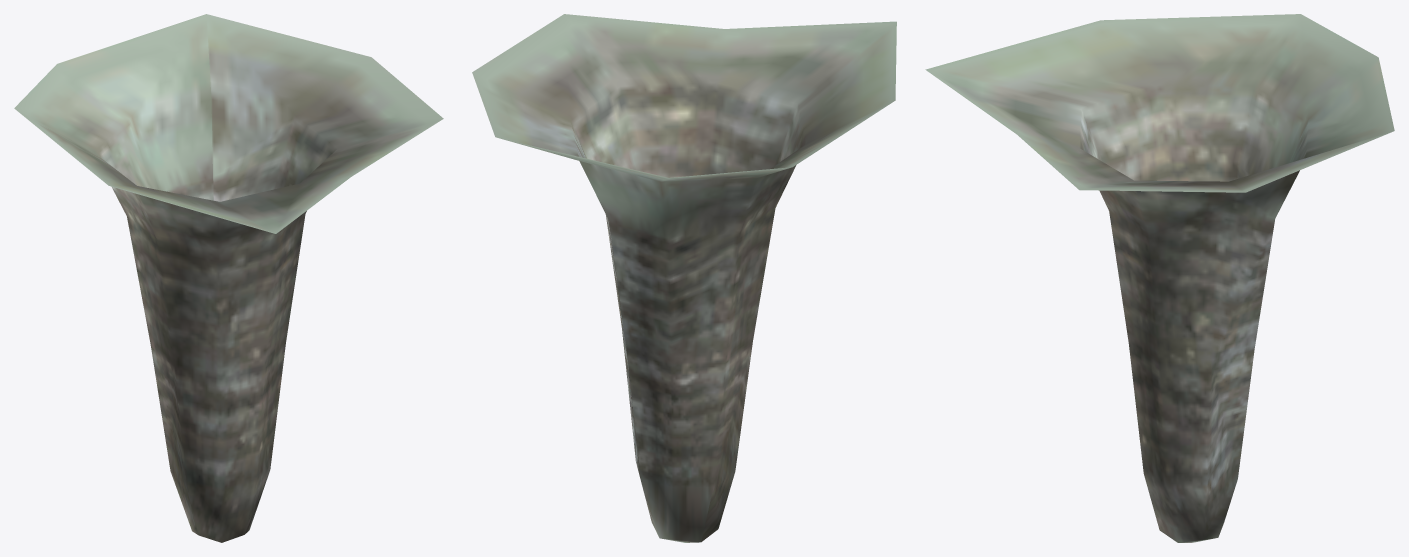
Rendered from TROLLHOLE02_PS-MAINSTALAG75.fbx.
The picture shows the model from 3 angles, left to right: view 1: azimuth 30°, elevation 25°; view 2: azimuth 150°, elevation 25°; view 3: azimuth 270°, elevation 25°; orthographic projection. The views are drawn at different scales.
Parts seen in each view (by area): view 1: TROLLHOLE02_PS-MAINSTALAG75; view 2: TROLLHOLE02_PS-MAINSTALAG75; view 3: TROLLHOLE02_PS-MAINSTALAG75.
Boxes of the visible parts, x1=… form: TROLLHOLE02_PS-MAINSTALAG75: x1=14, y1=14, x2=443, y2=542; TROLLHOLE02_PS-MAINSTALAG75: x1=472, y1=14, x2=896, y2=542; TROLLHOLE02_PS-MAINSTALAG75: x1=925, y1=14, x2=1394, y2=542.
Bounding box in the file's own units: 17868 × 22396 × 20984.
Materials: 1 (1 with a texture image).
